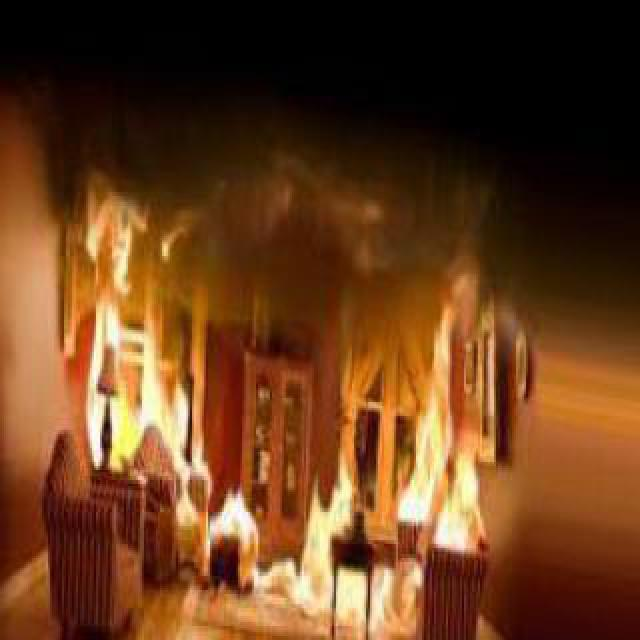Fire: (80, 190, 146, 472), (394, 292, 460, 520), (290, 458, 360, 620), (432, 408, 488, 564), (154, 364, 196, 540), (210, 470, 260, 554)
Smoke: (148, 166, 510, 294)
